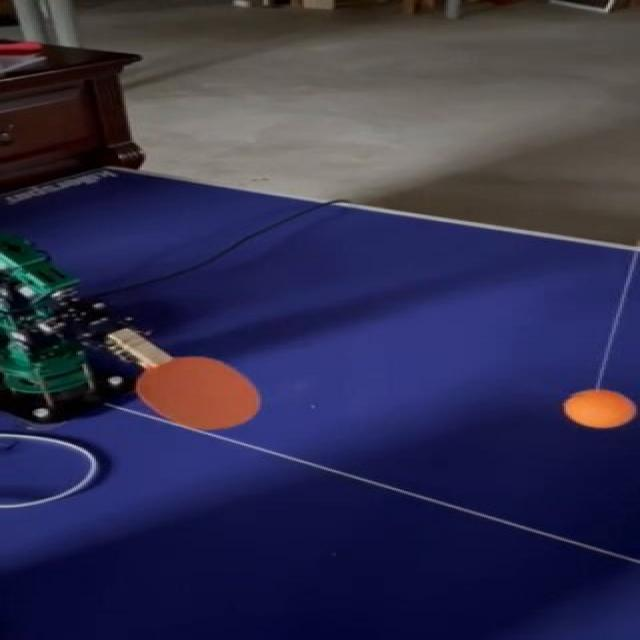ping-pong-ball: (564, 390, 638, 427)
